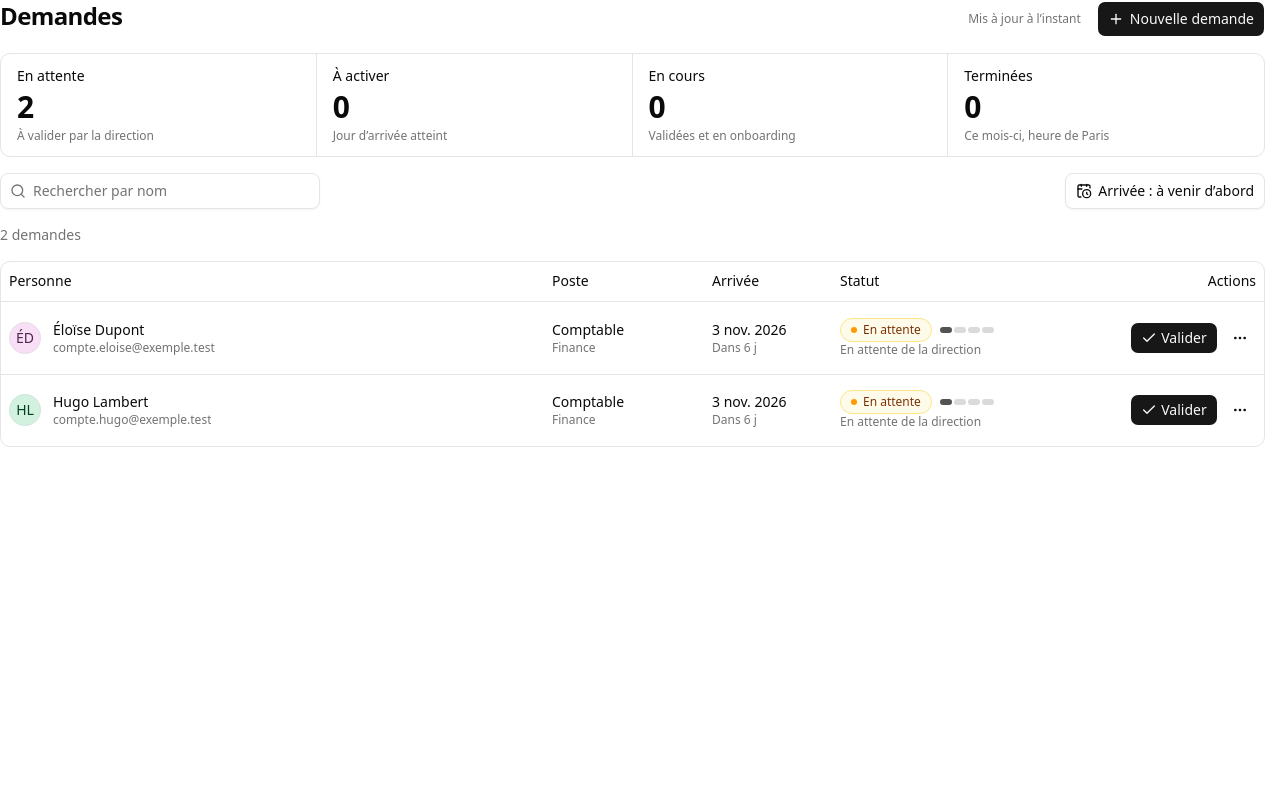
Test case: fenêtre › modale de 560 px à trois sections titrées, sans choix de licence
Expected: the link "Hugo Lambert" is shown, [53,392,148,412]
Click the button "Nouvelle demande".
click(1181, 19)  # box [1097,1,1265,37]
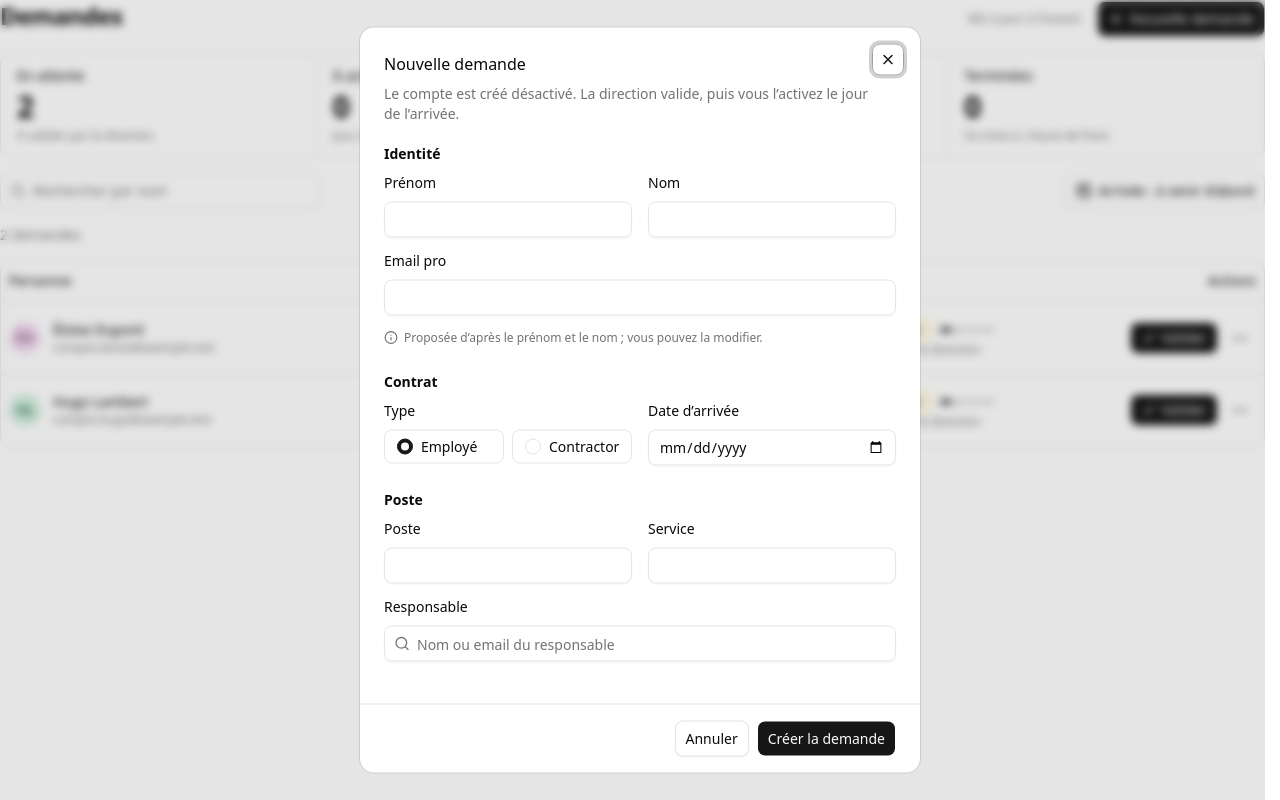
Expected: the field labelled "Prénom" is shown, [384,202,632,238]
Expected: the field labelled "Nom" is shown, [648,202,896,238]
Expected: the field labelled "Email pro" is shown, [384,280,896,316]
